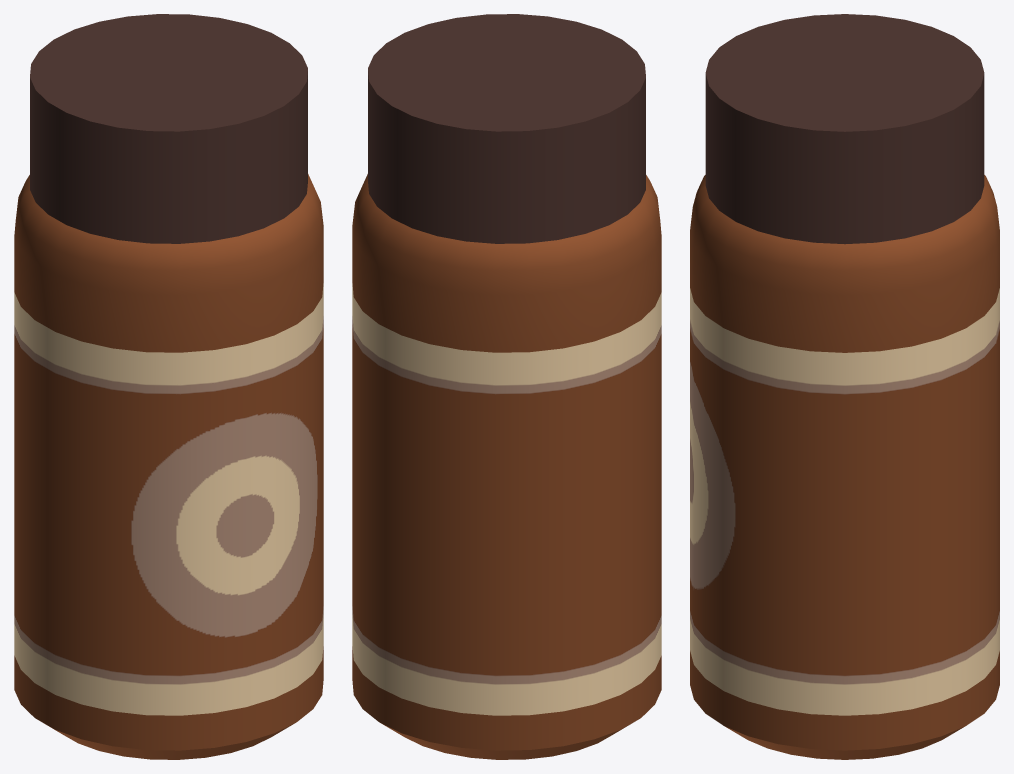
File: Cinnamon.fbx
3 views of the same model, side by side, from view 1: azimuth 30°, elevation 25°; view 2: azimuth 150°, elevation 25°; view 3: azimuth 270°, elevation 25° (orthographic).
Visible parts, largest first — view 1: Cinnamon; view 2: Cinnamon; view 3: Cinnamon.
Part boxes in pixels (<box>): Cinnamon: <box>14,14,323,759</box>; Cinnamon: <box>352,14,661,759</box>; Cinnamon: <box>690,14,999,759</box>.
Bounding box in the file's own units: 0.05 × 0.113 × 0.05.
3 materials, 1 textured.
